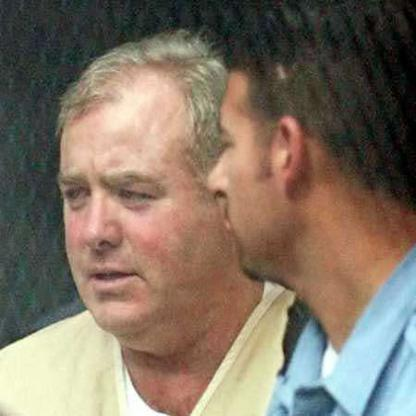face: (46, 44, 231, 340)
